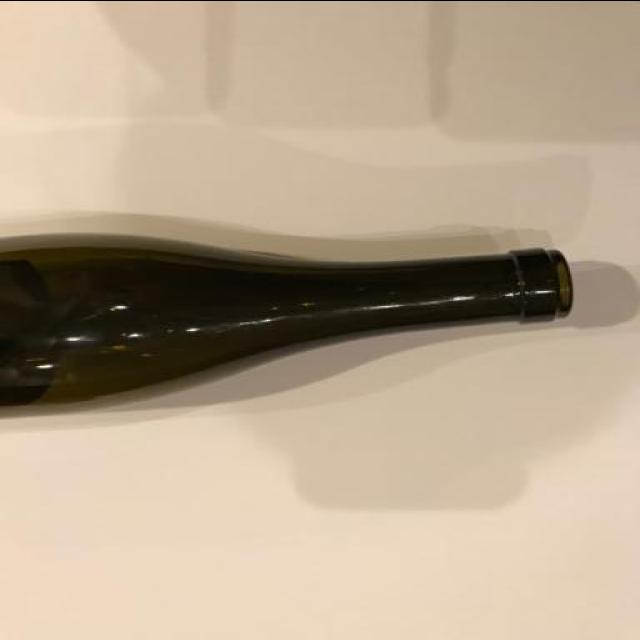Glass Bottle: (5, 233, 577, 412)
